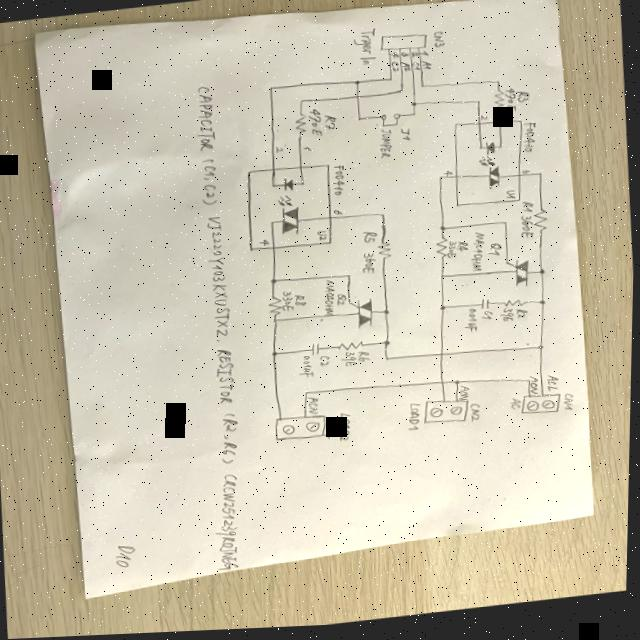capacitor: (480, 299, 493, 314), (311, 343, 323, 358)
crossover: (354, 95, 361, 102), (440, 354, 447, 360), (443, 383, 447, 388)
junction: (454, 381, 464, 388), (353, 80, 361, 88), (540, 272, 548, 279), (440, 307, 448, 314), (385, 342, 393, 349), (273, 351, 281, 358), (440, 227, 448, 234), (271, 278, 279, 285), (502, 222, 510, 229), (538, 174, 545, 181), (539, 347, 547, 353), (305, 391, 313, 397), (541, 303, 548, 309), (384, 311, 391, 317), (411, 103, 418, 109), (269, 86, 275, 92), (299, 100, 306, 105), (386, 359, 392, 364), (380, 214, 386, 219), (441, 276, 447, 281), (347, 275, 353, 280), (357, 118, 363, 122), (495, 83, 501, 87), (420, 87, 426, 91), (399, 91, 405, 95), (476, 102, 482, 106), (388, 80, 394, 84), (527, 383, 533, 387), (438, 178, 444, 182), (412, 115, 417, 119), (275, 319, 279, 324)
resistor: (532, 210, 551, 237), (268, 295, 285, 318), (337, 341, 367, 354), (377, 243, 395, 262), (436, 240, 452, 261), (294, 115, 309, 136), (504, 301, 529, 312), (493, 93, 506, 114)
switch: (380, 114, 403, 130)
terminal: (274, 413, 331, 445), (422, 398, 473, 430), (519, 394, 565, 422), (379, 32, 431, 55)
text: (180, 79, 263, 576), (352, 28, 379, 69), (470, 234, 489, 276), (374, 129, 396, 163), (321, 279, 339, 319), (521, 124, 539, 157), (295, 356, 318, 381), (308, 108, 325, 140), (407, 404, 425, 434), (463, 309, 482, 337), (339, 413, 356, 444), (361, 252, 379, 277), (519, 218, 536, 244), (333, 166, 347, 197), (323, 418, 340, 442), (282, 289, 297, 315), (545, 376, 563, 397), (505, 89, 518, 116), (341, 352, 359, 370), (486, 244, 505, 261), (469, 405, 484, 426), (499, 310, 517, 327), (515, 92, 534, 108), (309, 396, 323, 417), (362, 231, 380, 247), (529, 378, 542, 400), (564, 396, 578, 415), (323, 115, 337, 133), (294, 294, 309, 310), (432, 33, 446, 50), (460, 387, 473, 405), (520, 204, 536, 218), (447, 243, 458, 262), (399, 130, 412, 145), (319, 356, 334, 369), (397, 63, 413, 75), (483, 312, 496, 325), (457, 243, 470, 256), (317, 231, 330, 244), (516, 311, 531, 322), (337, 294, 348, 308), (358, 353, 372, 364), (385, 52, 400, 62), (512, 400, 523, 413), (420, 62, 433, 73), (390, 62, 401, 74), (505, 192, 517, 203), (275, 145, 286, 155), (259, 239, 271, 248), (411, 64, 421, 74), (334, 209, 344, 218), (401, 53, 411, 61), (303, 146, 313, 154), (481, 116, 489, 125), (522, 171, 531, 179), (445, 173, 455, 180), (420, 52, 430, 59), (502, 117, 510, 124), (412, 53, 420, 60)
